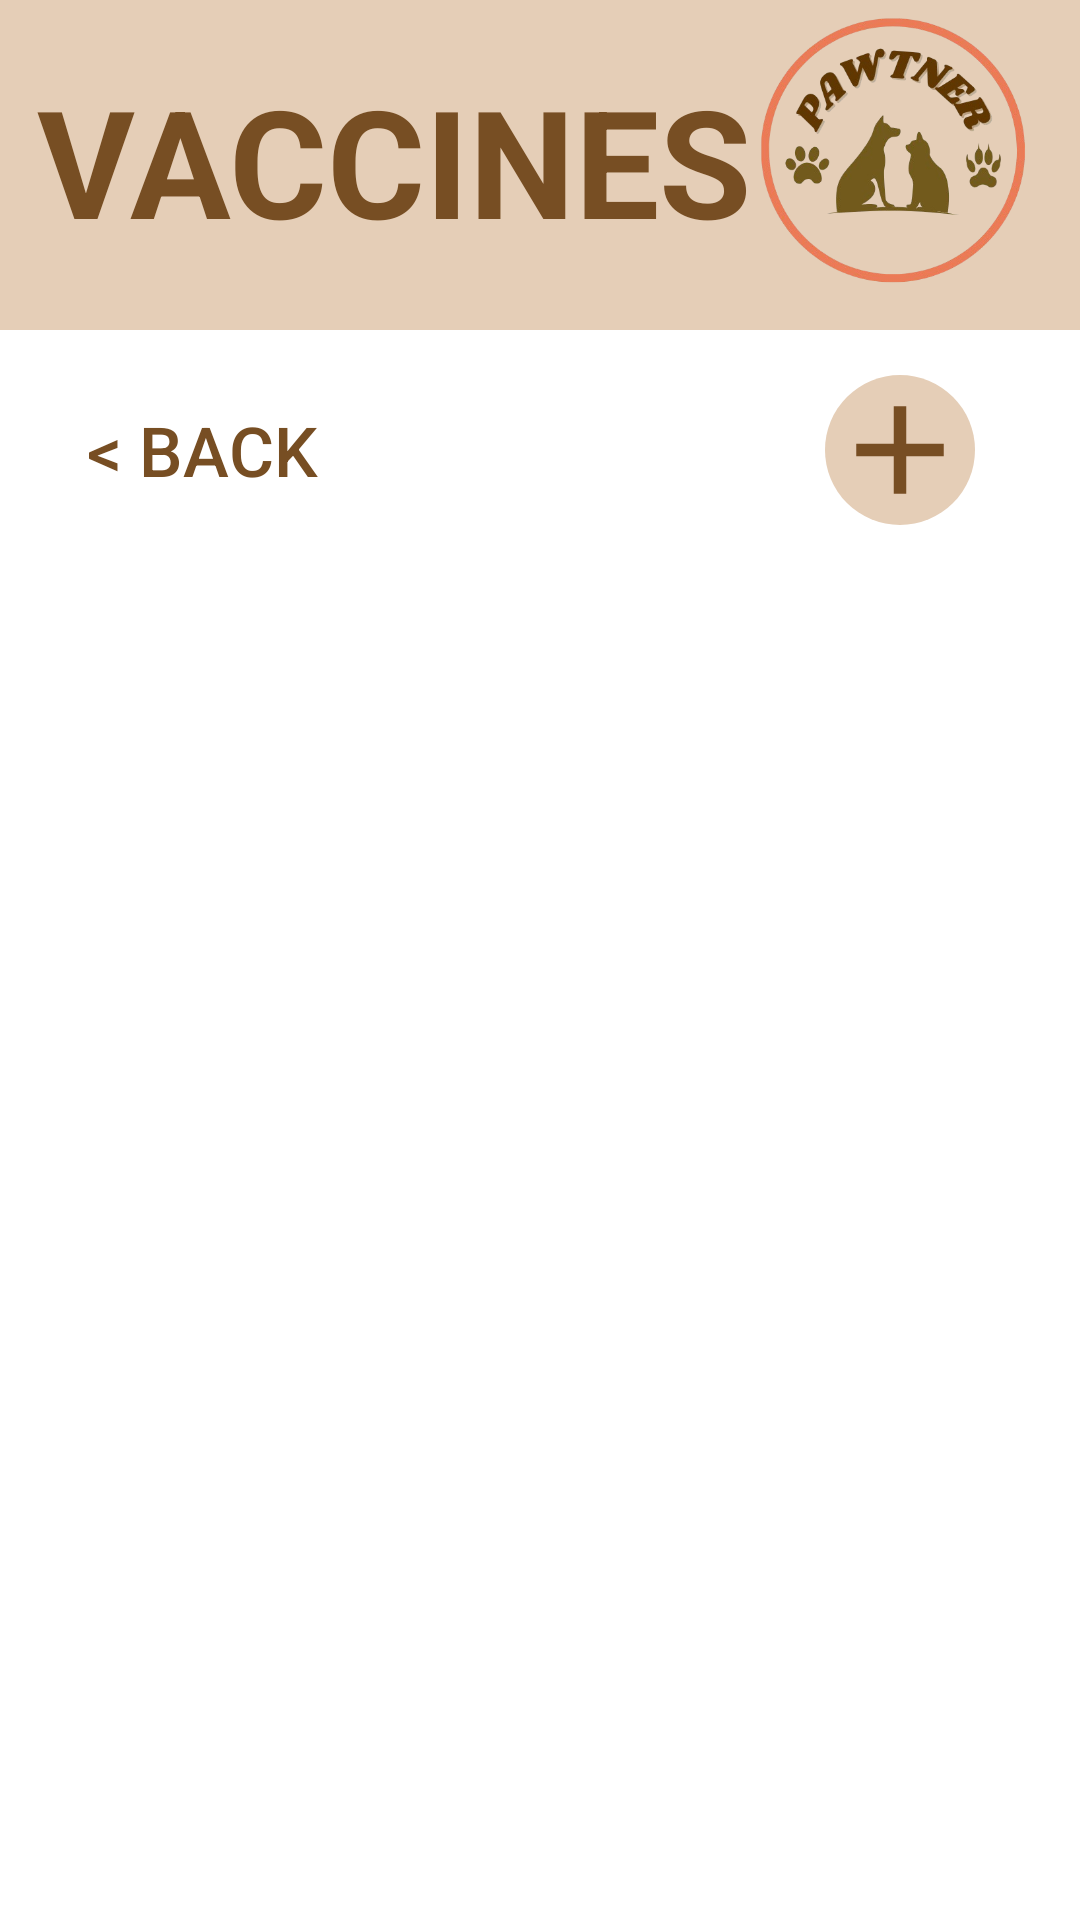

Icons on this 1080*1920 Android screen, each with the point to tap as (x,y):
Add Vaccination: (900,450)
